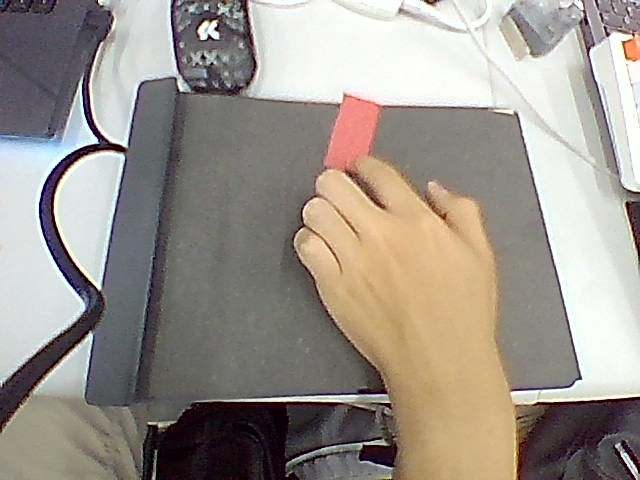card: (324, 95, 381, 170)
